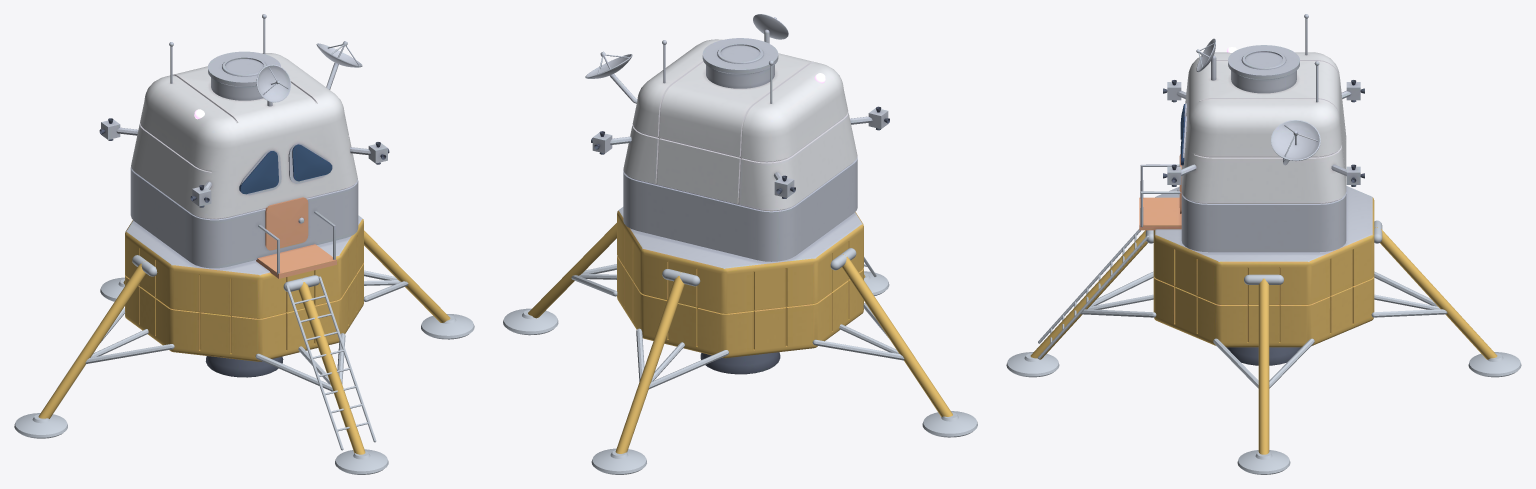
The model's file is lunar-lander.glb.
3 renders of one model, left to right at view 1: azimuth 30°, elevation 25°; view 2: azimuth 150°, elevation 25°; view 3: azimuth 270°, elevation 25°, orthographic. The views are drawn at different scales.
Visible parts, largest first — view 1: lunar-lander_body, lunar-lander_leg_front, lunar-lander_leg_left, lunar-lander_leg_right; view 2: lunar-lander_body, lunar-lander_leg_back, lunar-lander_leg_left, lunar-lander_leg_right, lunar-lander_leg_front; view 3: lunar-lander_body, lunar-lander_leg_front, lunar-lander_leg_right, lunar-lander_leg_back.
Boxes of the visible parts, x1,y1,x2,y2 form: lunar-lander_body: (99,14,389,377); lunar-lander_leg_front: (255,275,388,474); lunar-lander_leg_left: (14,255,174,438); lunar-lander_leg_right: (363,230,474,339); lunar-lander_body: (585,14,889,374); lunar-lander_leg_back: (591,269,728,474); lunar-lander_leg_left: (812,248,977,437); lunar-lander_leg_right: (503,223,617,335); lunar-lander_leg_front: (864,257,889,295); lunar-lander_body: (1139,14,1374,365); lunar-lander_leg_front: (1006,229,1156,377); lunar-lander_leg_right: (1213,274,1314,474); lunar-lander_leg_back: (1371,220,1521,377).
Bounding box in the file's own units: 9.7 × 6.82 × 9.7.
11 materials, 1 textured.
